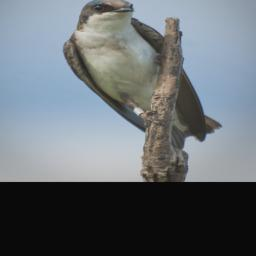Swallow: (62, 0, 224, 151)
